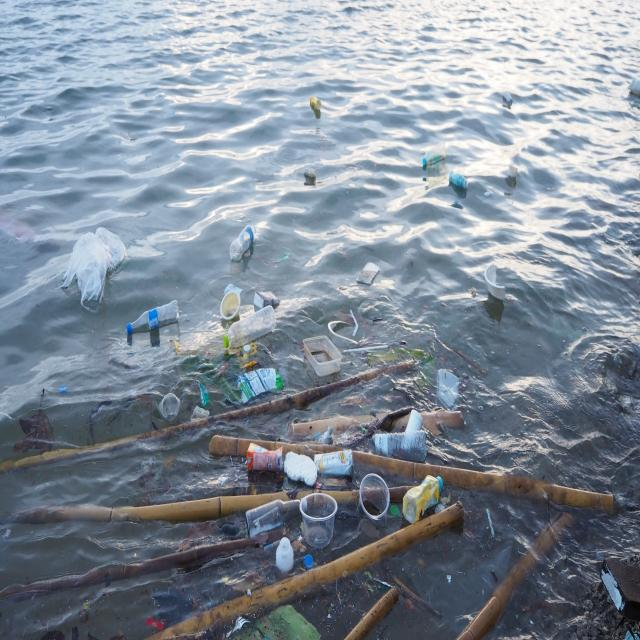foam: (285, 450, 317, 486), (483, 262, 508, 303), (356, 262, 382, 284)
plastic: (247, 493, 305, 538), (223, 304, 276, 350), (402, 473, 444, 521), (126, 300, 181, 335), (368, 430, 428, 462), (230, 222, 258, 262), (420, 144, 448, 166), (450, 173, 469, 192), (309, 92, 322, 110), (503, 92, 513, 102)
plastic bottle: (60, 222, 127, 311), (300, 494, 338, 547), (225, 367, 282, 401), (302, 332, 343, 376), (359, 474, 393, 527), (434, 360, 464, 409), (276, 539, 296, 572), (158, 391, 181, 419), (221, 294, 241, 319), (322, 424, 336, 446), (508, 163, 518, 182), (305, 168, 316, 176)
unknow: (245, 441, 286, 473), (314, 448, 354, 477), (254, 288, 280, 310)
